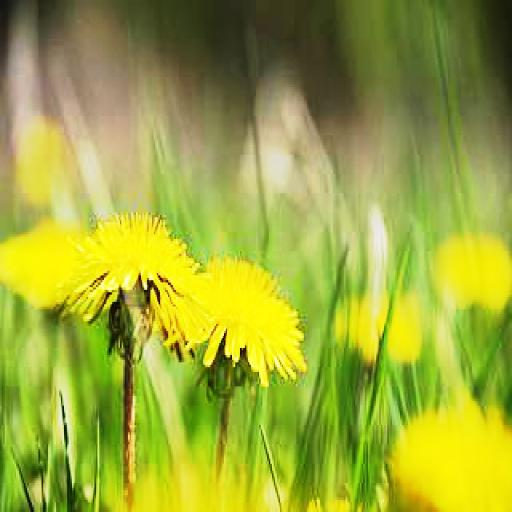dandelion: (56, 212, 203, 358), (181, 258, 301, 404)
